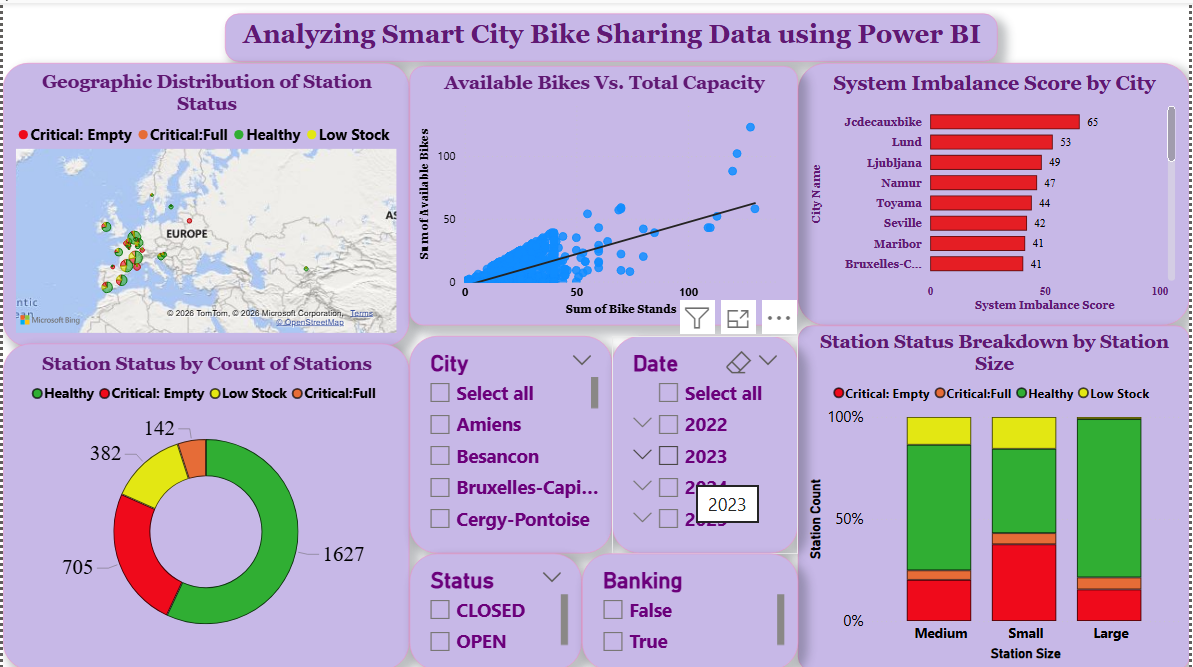

The page's visual inventory and layout, read from the dashboard file:
{"tool":"powerbi","page":{"name":"Report","canvas":[1280,720],"ordinal":6},"visuals":[{"type":"textbox","box":[150,218,300,300],"z":0},{"type":"textbox","title":"Analyzing Smart City Bike Sharing Data using Power BI","box":[239.6,11.3,833.9,51.8],"z":1000},{"type":"map","title":"Geographic Distribution of Station Status","fields":{"Category":["Dim_City.City Name"],"Series":["Feuil1.Station_Status"],"Y":["Avg(Feuil1.Latitude)"],"X":["Avg(Feuil1.Longitude)"],"Size":["Sum(Feuil1.Bike Stands)"]},"box":[0,64.8,438.8,306],"z":2000},{"type":"donutChart","title":"Station Status by Count of Stations","fields":{"Category":["Feuil1.Station_Status"],"Y":["CountNonNull(Feuil1.Station Name)"]},"box":[0,367.6,438.8,353],"z":3000},{"type":"clusteredBarChart","title":"System Imbalance Score by City ","fields":{"Category":["Dim_City.City Name"],"Y":["Measure_Table.System Imbalance Score"]},"box":[858.2,64.8,422.6,283.4],"z":4000},{"type":"hundredPercentStackedColumnChart","title":"Station Status Breakdown by Station Size","fields":{"Category":["Feuil1.Station_Size"],"Y":["CountNonNull(Feuil1.Station Name)"],"Series":["Feuil1.Station_Status"]},"box":[858.2,348.1,422.6,372.4],"z":5000},{"type":"scatterChart","title":"Available Bikes Vs. Total Capacity","fields":{"X":["Sum(Feuil1.Bike Stands)"],"Y":["Sum(Feuil1.Available Bikes)"],"Category":["Feuil1.Station"]},"box":[438.8,68,419.4,280.1],"z":6000},{"type":"slicer","fields":{"Values":["Dim_City.City Name"]},"box":[438.8,359.5,218.6,234.8],"z":7000},{"type":"slicer","fields":{"Values":["Feuil1.Last Update Date.Variation.Date Hierarchy.Year","Feuil1.Last Update Date.Variation.Date Hierarchy.Quarter","Feuil1.Last Update Date.Variation.Date Hierarchy.Month","Feuil1.Last Update Date.Variation.Date Hierarchy.Day"]},"box":[657.4,359.5,200.8,234.8],"z":8000},{"type":"slicer","fields":{"Values":["Feuil1.Status"]},"box":[438.8,594.3,186.2,126.3],"z":9000},{"type":"slicer","fields":{"Values":["Feuil1.Banking"]},"box":[625,594.3,233.2,126.3],"z":10000}]}

Visuals, with their boxes in screenshot pixels (x1, y1, x2, y2), scaled from the page's 1280x720 canvas onto the 1193x667 screenshot:
textbox: 140:202:419:480
"Analyzing Smart City Bike Sharing Data using Power BI" textbox: 223:10:1001:58
"Geographic Distribution of Station Status" map: 0:60:409:344
"Station Status by Count of Stations" donutChart: 0:341:409:666
"System Imbalance Score by City " clusteredBarChart: 800:60:1192:323
"Station Status Breakdown by Station Size" hundredPercentStackedColumnChart: 800:322:1192:666
"Available Bikes Vs. Total Capacity" scatterChart: 409:63:800:322
slicer - Dim_City.City Name: 409:333:613:551
slicer - Feuil1.Last Update Date.Variation.Date Hierarchy.Year x Feuil1.Last Update Date.Variation.Date Hierarchy.Quarter: 613:333:800:551
slicer - Feuil1.Status: 409:551:583:666
slicer - Feuil1.Banking: 583:551:800:666
